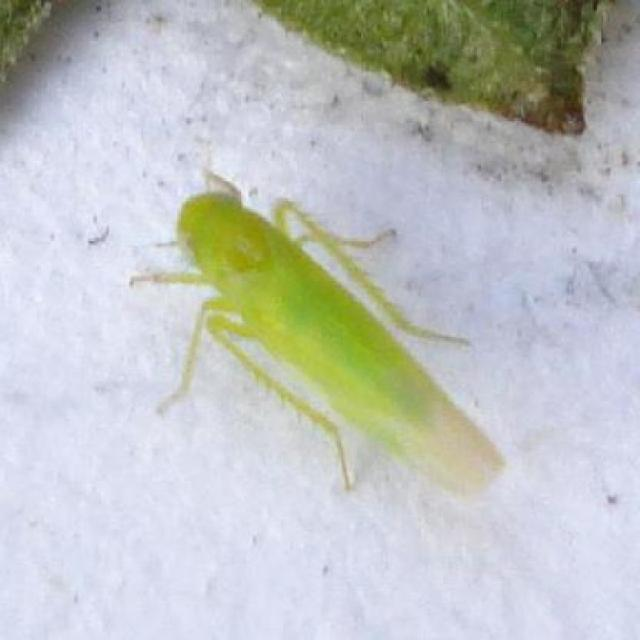green-leafhopper: (146, 180, 506, 505)
